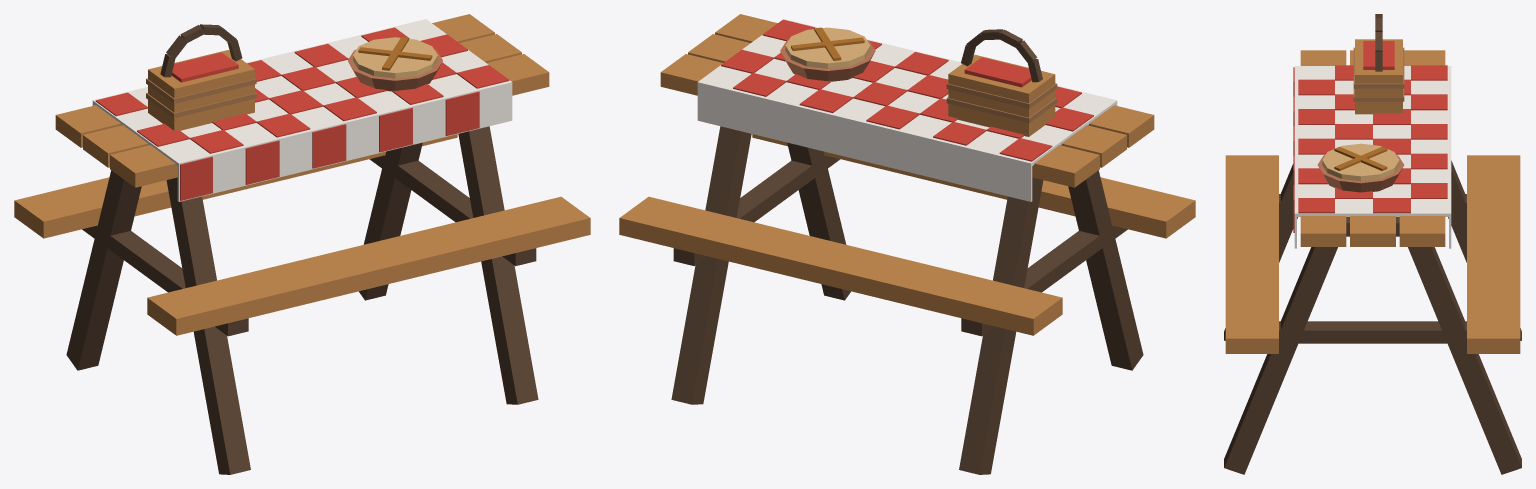
File: CatCafe_Decor_PicnicTableSet.glb
The picture shows the model from 3 angles, left to right: view 1: azimuth 30°, elevation 25°; view 2: azimuth 150°, elevation 25°; view 3: azimuth 270°, elevation 25°; orthographic projection. The views are drawn at different scales.
Visible parts, largest first — view 1: CatCafe_Decor_PicnicTableSet; view 2: CatCafe_Decor_PicnicTableSet; view 3: CatCafe_Decor_PicnicTableSet.
Boxes of the visible parts, bbox=[...] form: CatCafe_Decor_PicnicTableSet: bbox=[14, 14, 590, 474]; CatCafe_Decor_PicnicTableSet: bbox=[619, 14, 1195, 474]; CatCafe_Decor_PicnicTableSet: bbox=[1224, 14, 1521, 474].
Bounding box in the file's own units: 3.6 × 3.16 × 2.47.
1 material, 1 textured.
